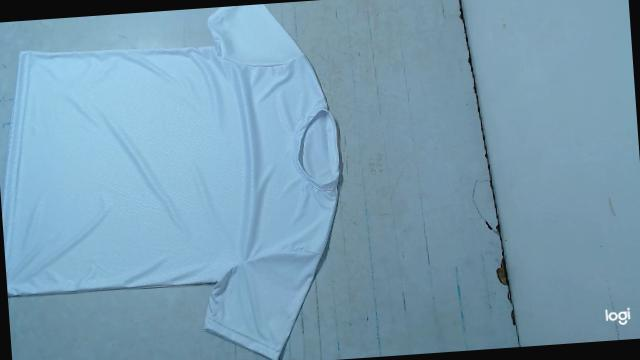new-garment: (0, 4, 339, 360)
